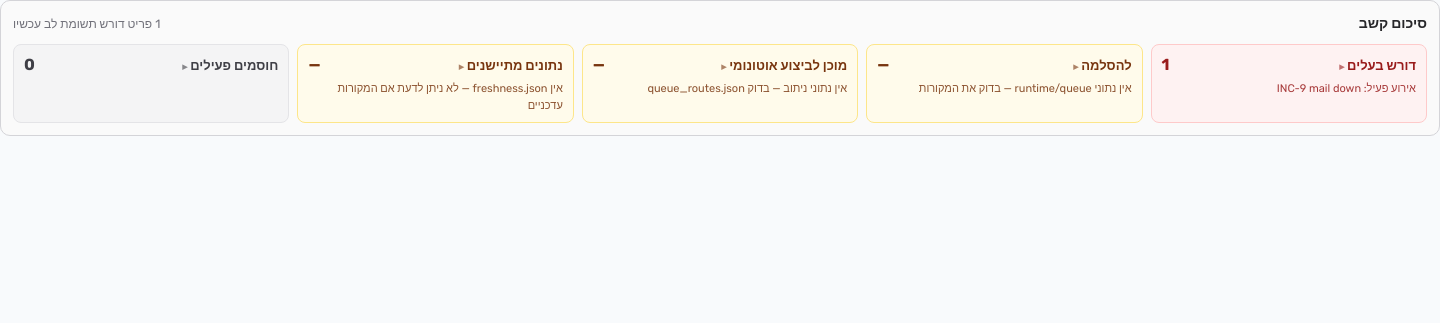
Test case: <AttentionSummaryCard> — tap-to-expand › clicking a cell expands it to reveal impact + nextAction + source
Click the button with test id "attention-summary-owner_required-toggle".
click(1289, 75)  # box [1162,53,1416,98]
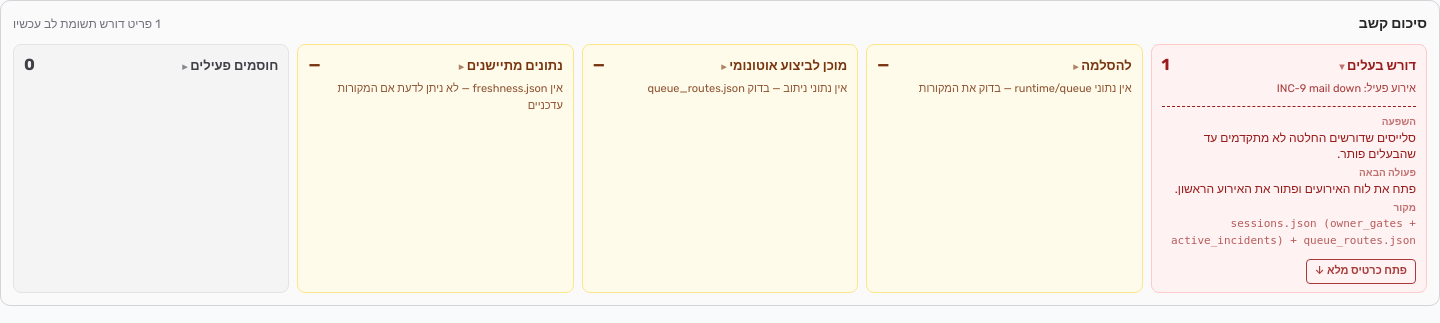
Now the text with test id "attention-summary-owner_required-impact" shows "סלייסים", box [1204,130,1416,161]
Now the text with test id "attention-summary-owner_required-next-action" shows "אירוע", box [1175,182,1416,196]
Now the text with test id "attention-summary-owner_required-source" shows "sessions.json", box [1171,217,1416,247]
